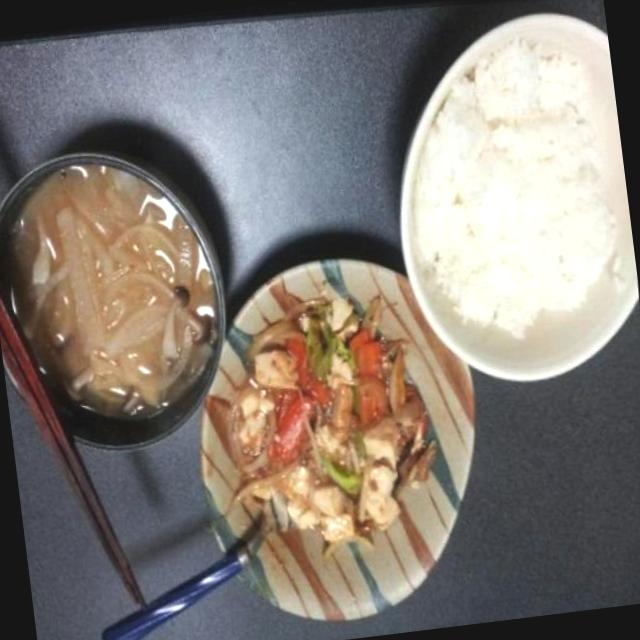Rice: (396, 26, 640, 345)
